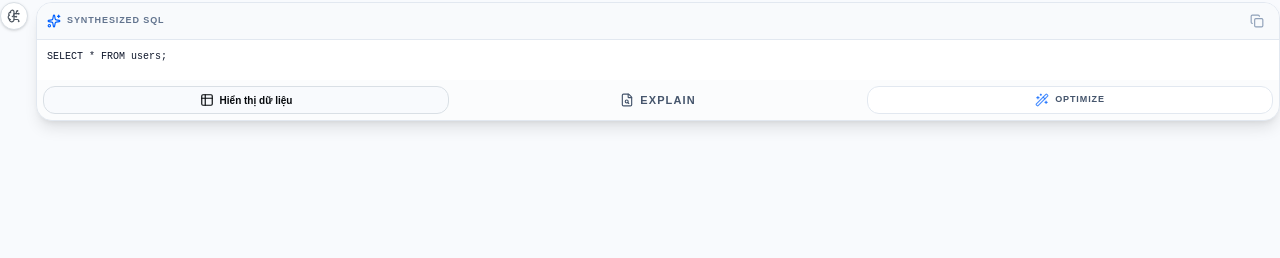
AIMessage › renders queried SQL data inside the assistant message
Click the button "Hiển thị dữ liệu" at (246, 100), box [43,86,449,114]
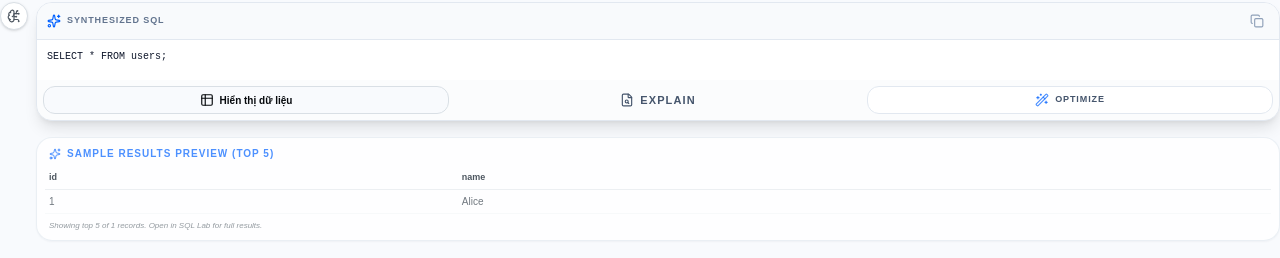
Result: the text "Alice" is shown at [458,189,1271,213]
